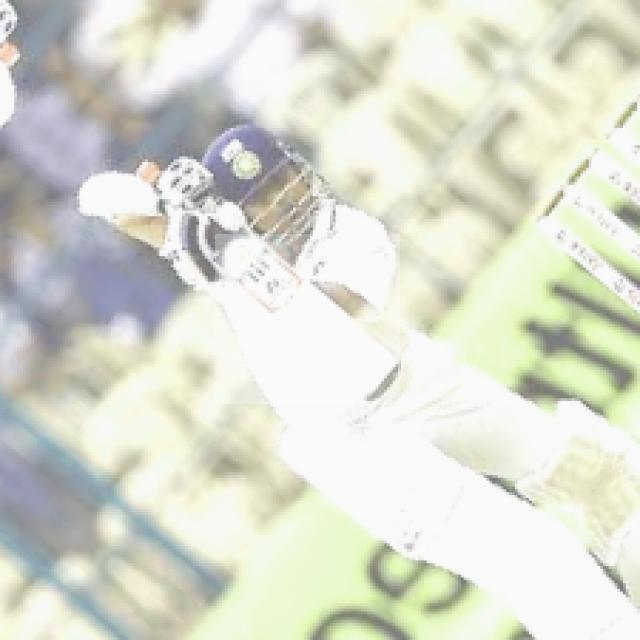bat: (214, 234, 405, 407)
toe: (364, 361, 404, 404)
